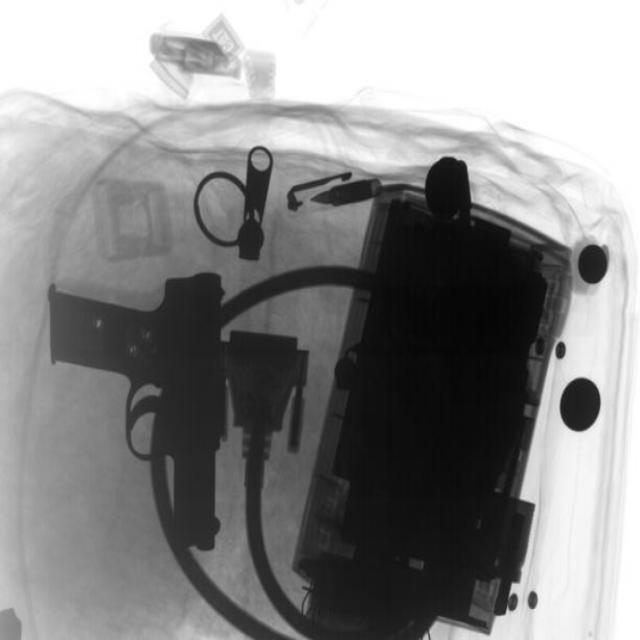GUN: (46, 268, 236, 565)
